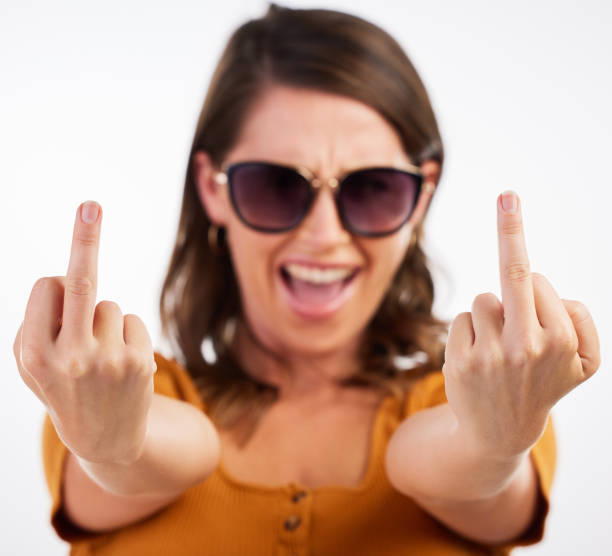insulting_gesture: (435, 192, 605, 446), (9, 199, 157, 472)
